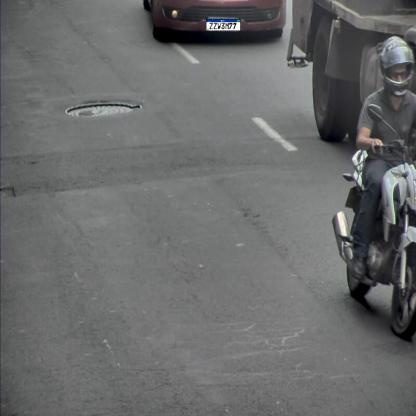PlacaM: (206, 19, 241, 31)
